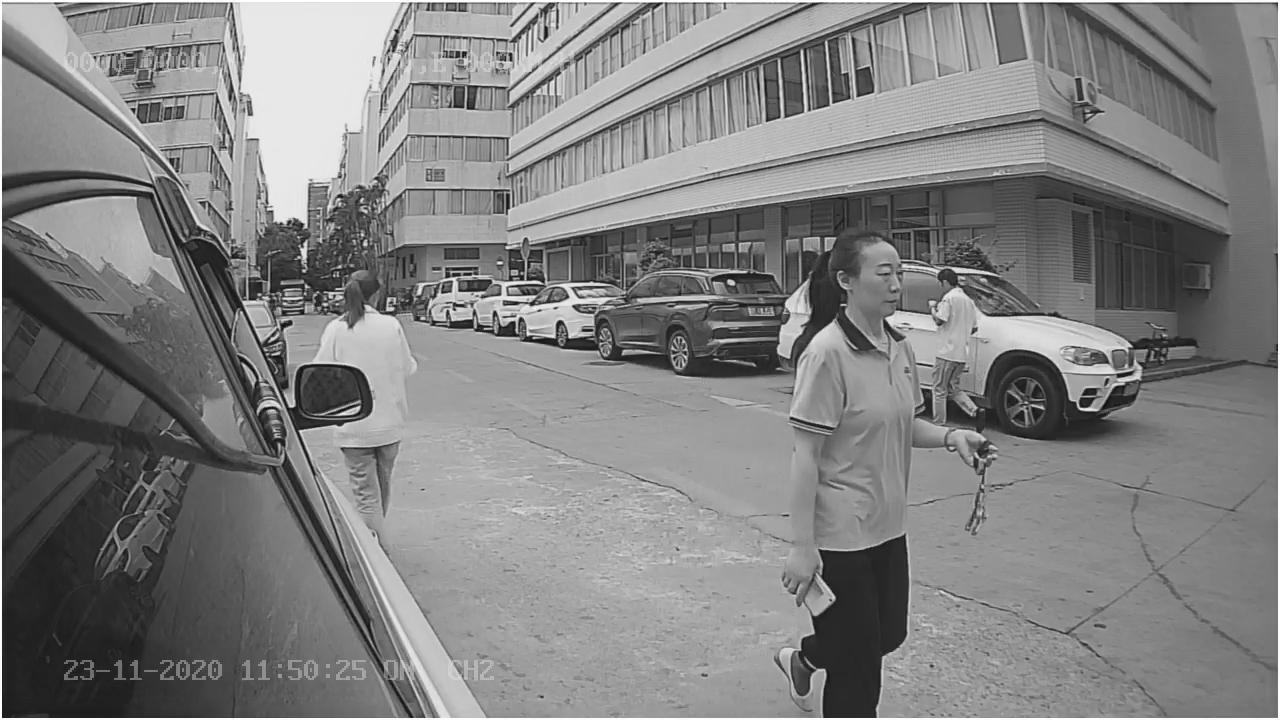person: (760, 219, 997, 587), (301, 265, 418, 370)
